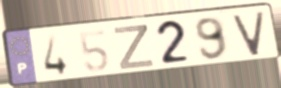2: (152, 18, 196, 70)
4: (41, 33, 72, 78)
5: (77, 27, 111, 73)
9: (193, 15, 232, 62)
V: (230, 9, 267, 58)
Z: (112, 23, 156, 72)
